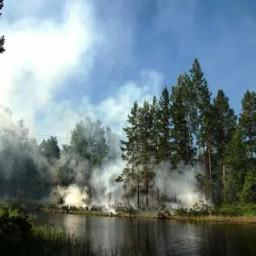Low smoke: (0, 0, 227, 223)
